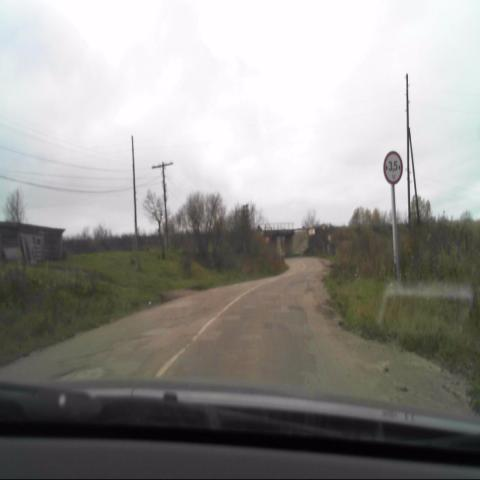3_14: (383, 150, 403, 185)
